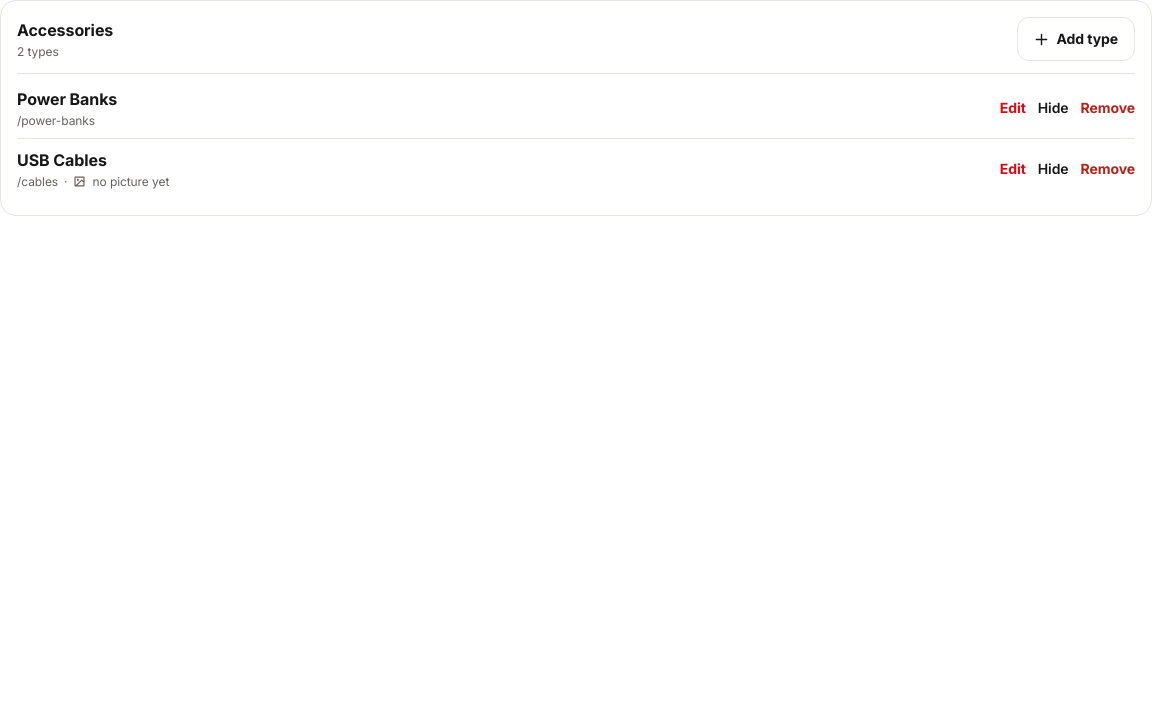
Scenario: the types screen › opens one form at a time
The image size is (1152, 720).
Click the button with aria-label "Add a type to Accessories" at (1076, 39), box [1016,17,1135,61]
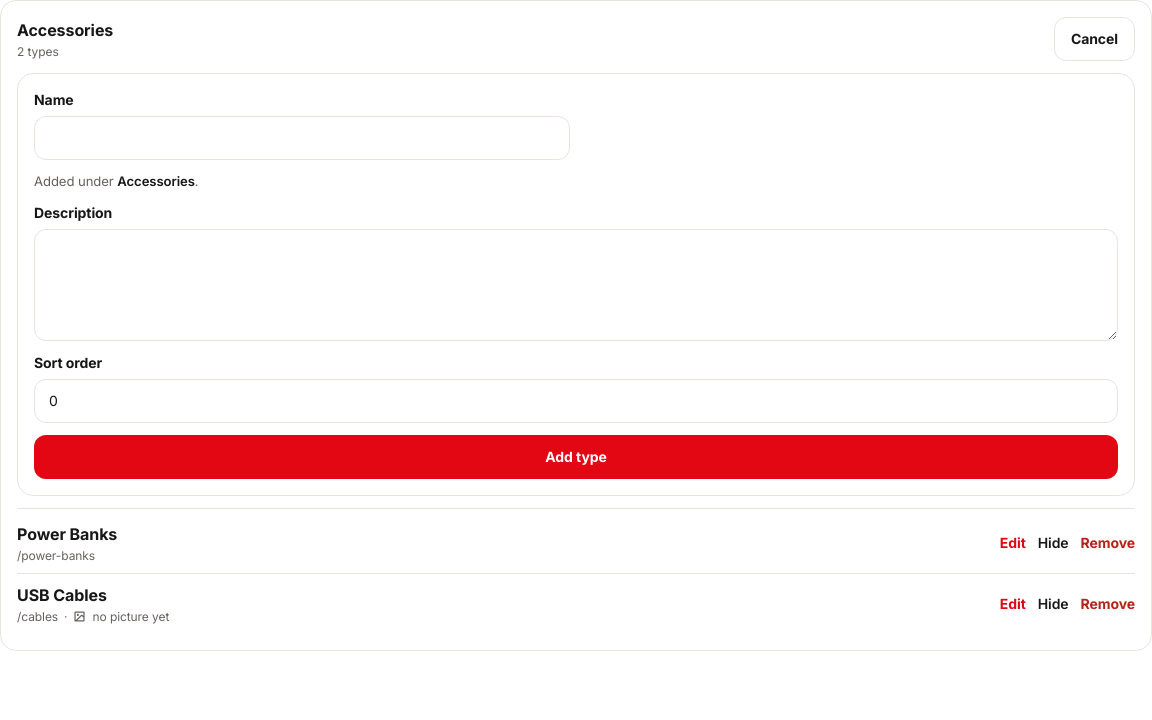
Click the button "Edit" in the row of "Power Banks" at (1013, 543), box [1000,521,1026,565]
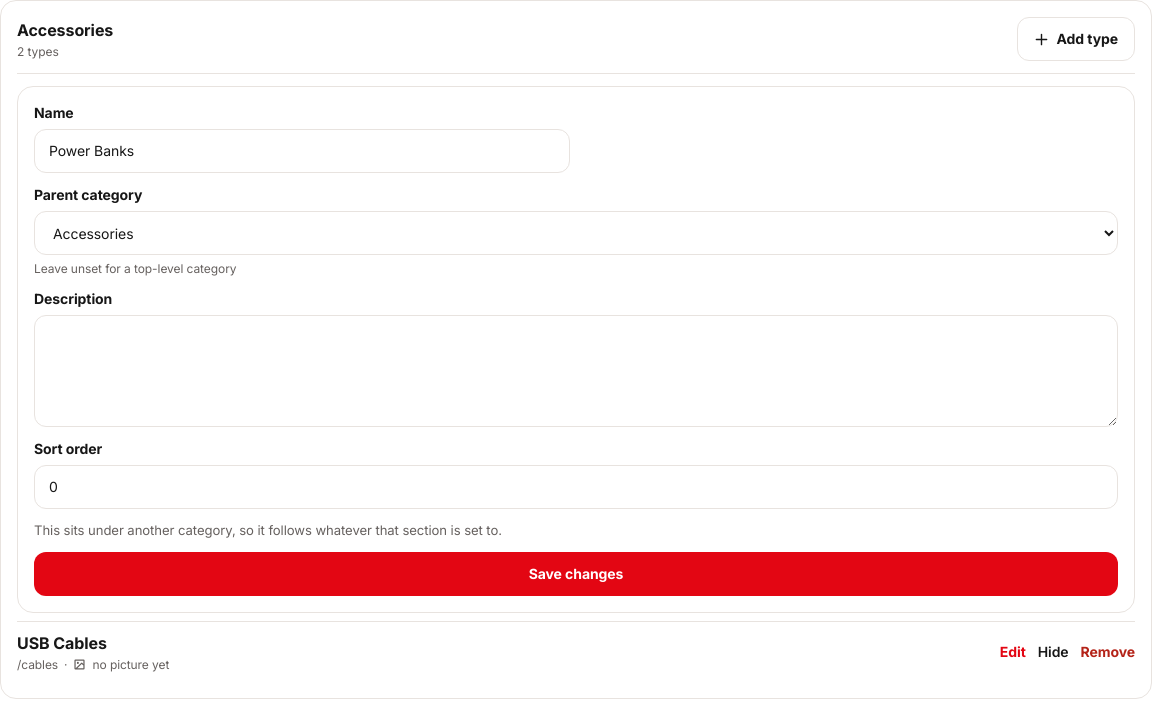
Expected: the number of forms is 1
